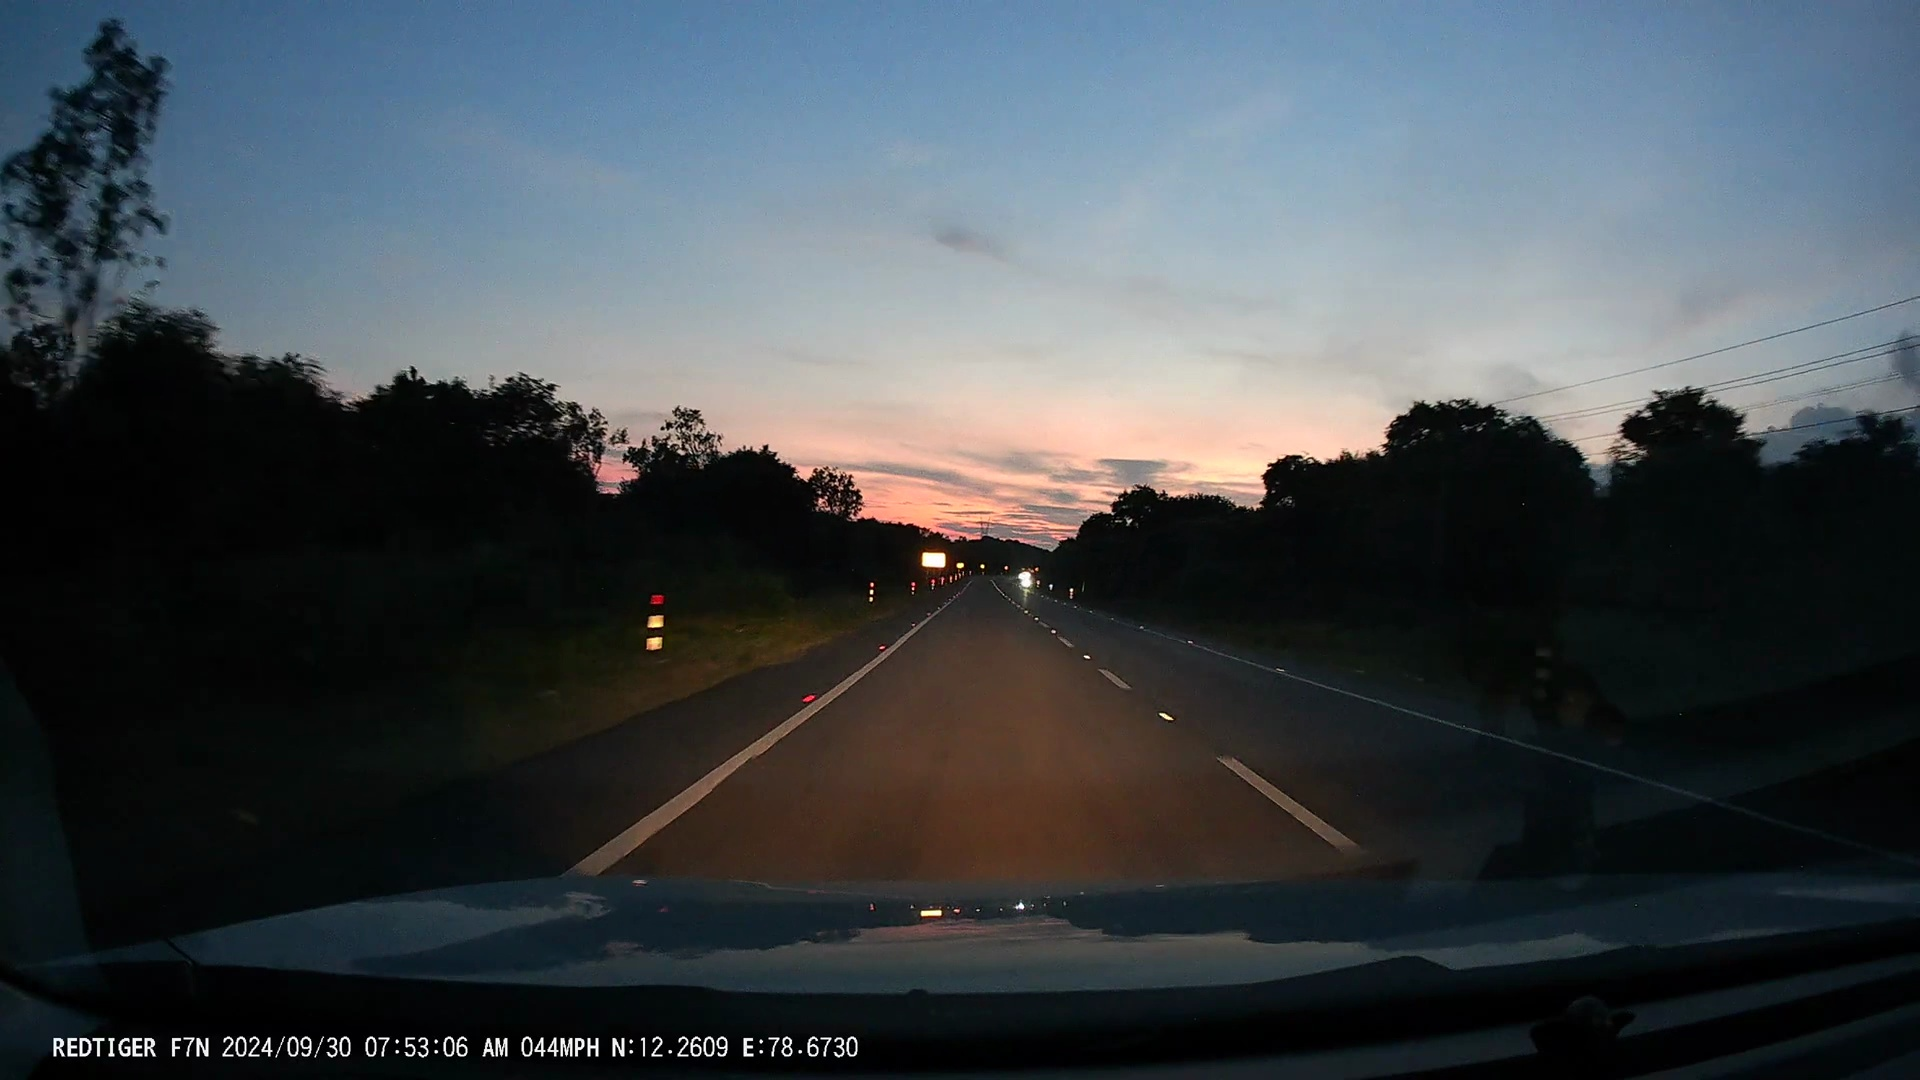headlight: (1021, 572, 1033, 589)
two wheeler: (1011, 566, 1036, 595)
